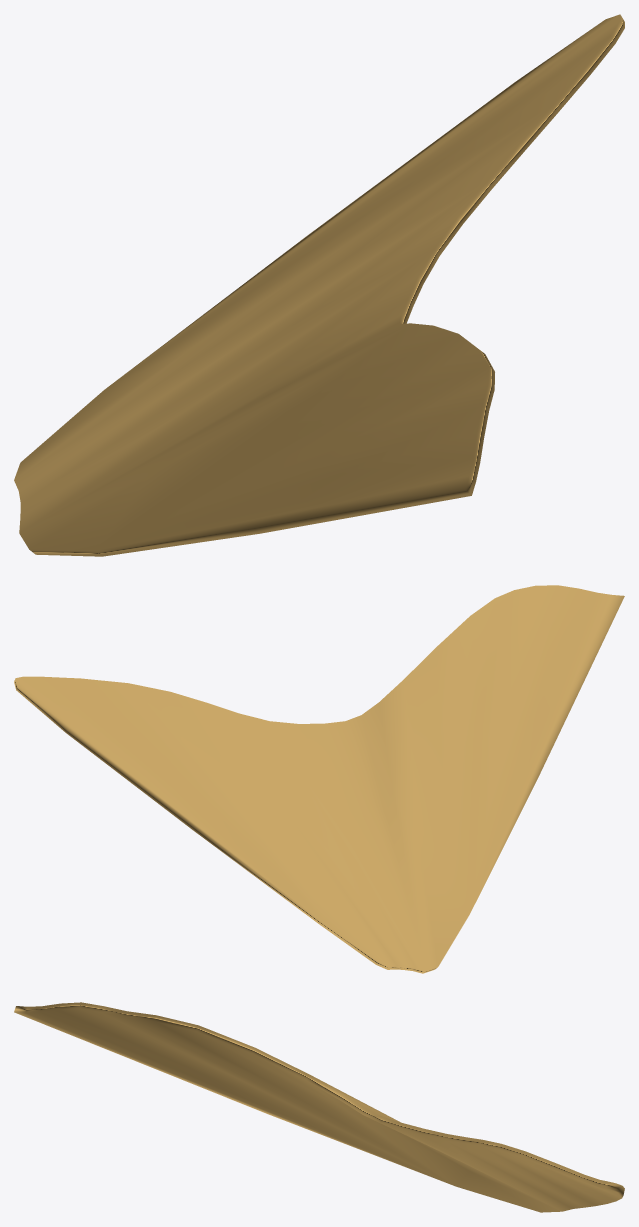
3 views of the same model, one above another, from view 1: azimuth 30°, elevation 25°; view 2: azimuth 150°, elevation 25°; view 3: azimuth 270°, elevation 25° (orthographic). The views are drawn at different scales.
Visible parts, largest first — view 1: 右侧骶棘韧带; view 2: 右侧骶棘韧带; view 3: 右侧骶棘韧带.
Part boxes in pixels (x1,y1,x2,y2): 右侧骶棘韧带: (14, 14, 624, 556); 右侧骶棘韧带: (14, 585, 624, 973); 右侧骶棘韧带: (14, 1002, 624, 1212).
Size of the model in its own units: 0.0559 by 0.0301 by 0.0648.
